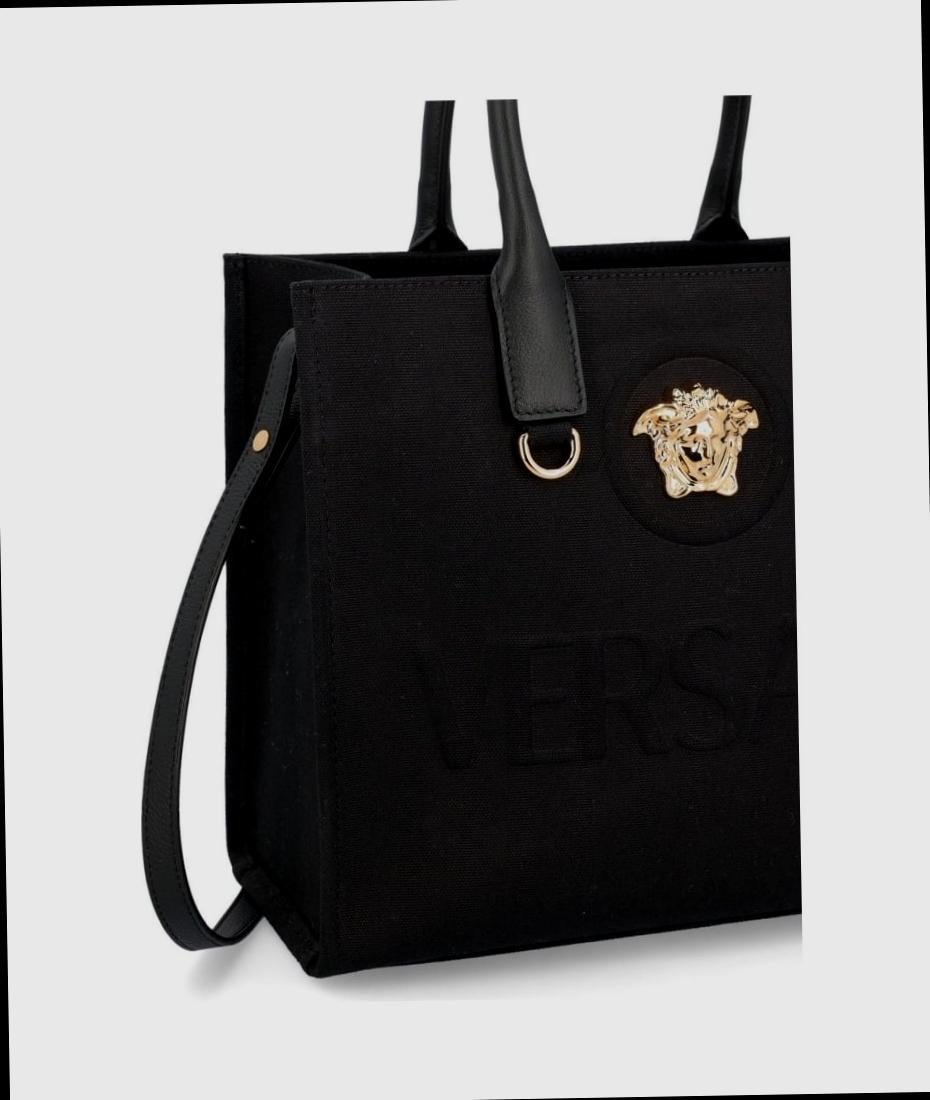VERSACE: (604, 336, 796, 546)
